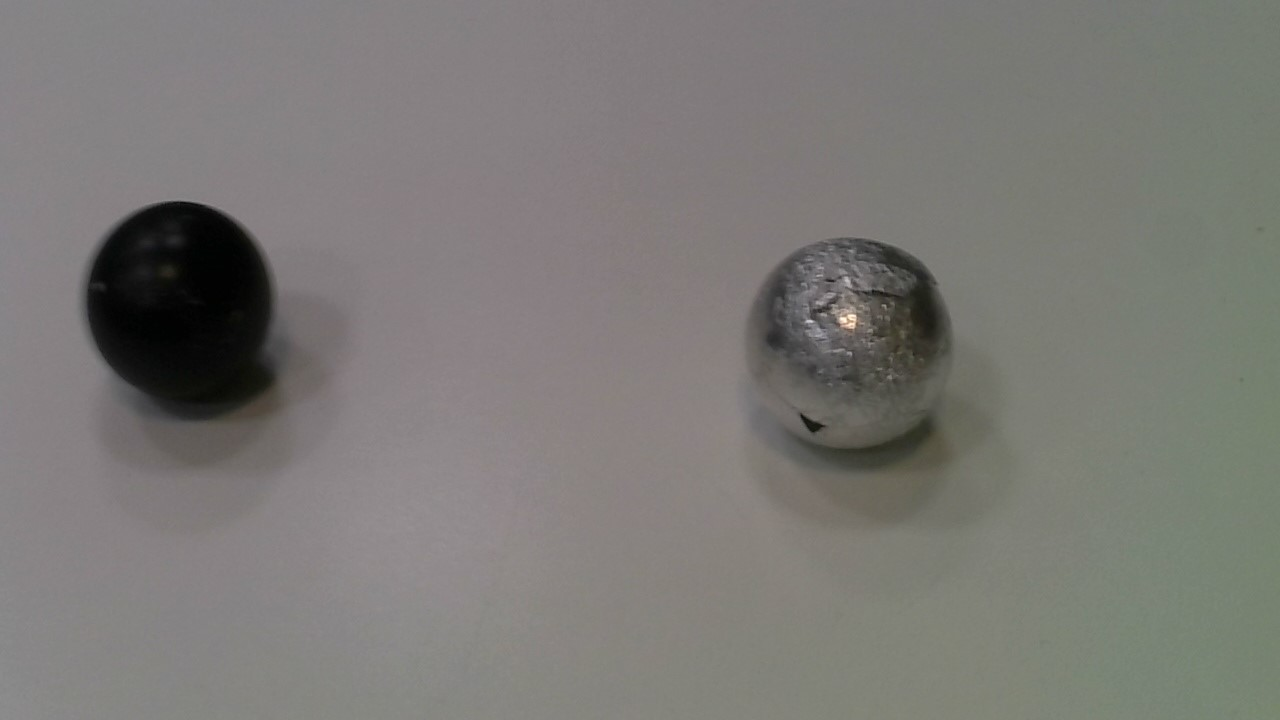black_ball: (82, 202, 276, 407)
silver_ball: (737, 232, 958, 458)
